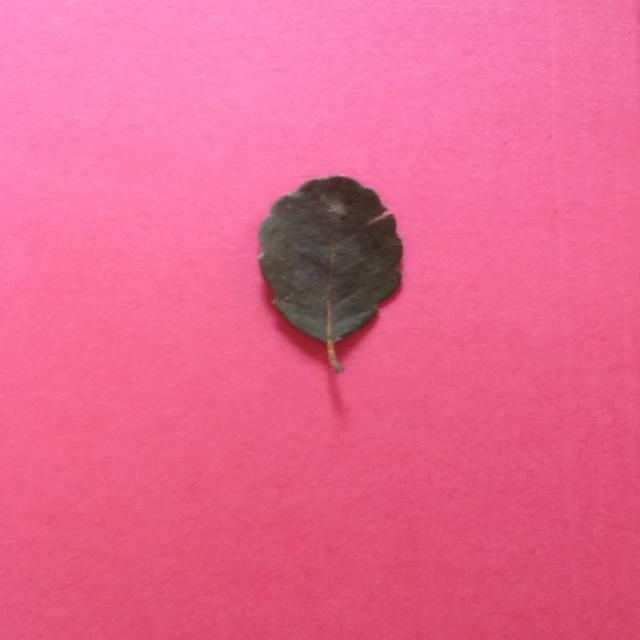foliage: (261, 172, 407, 374)
